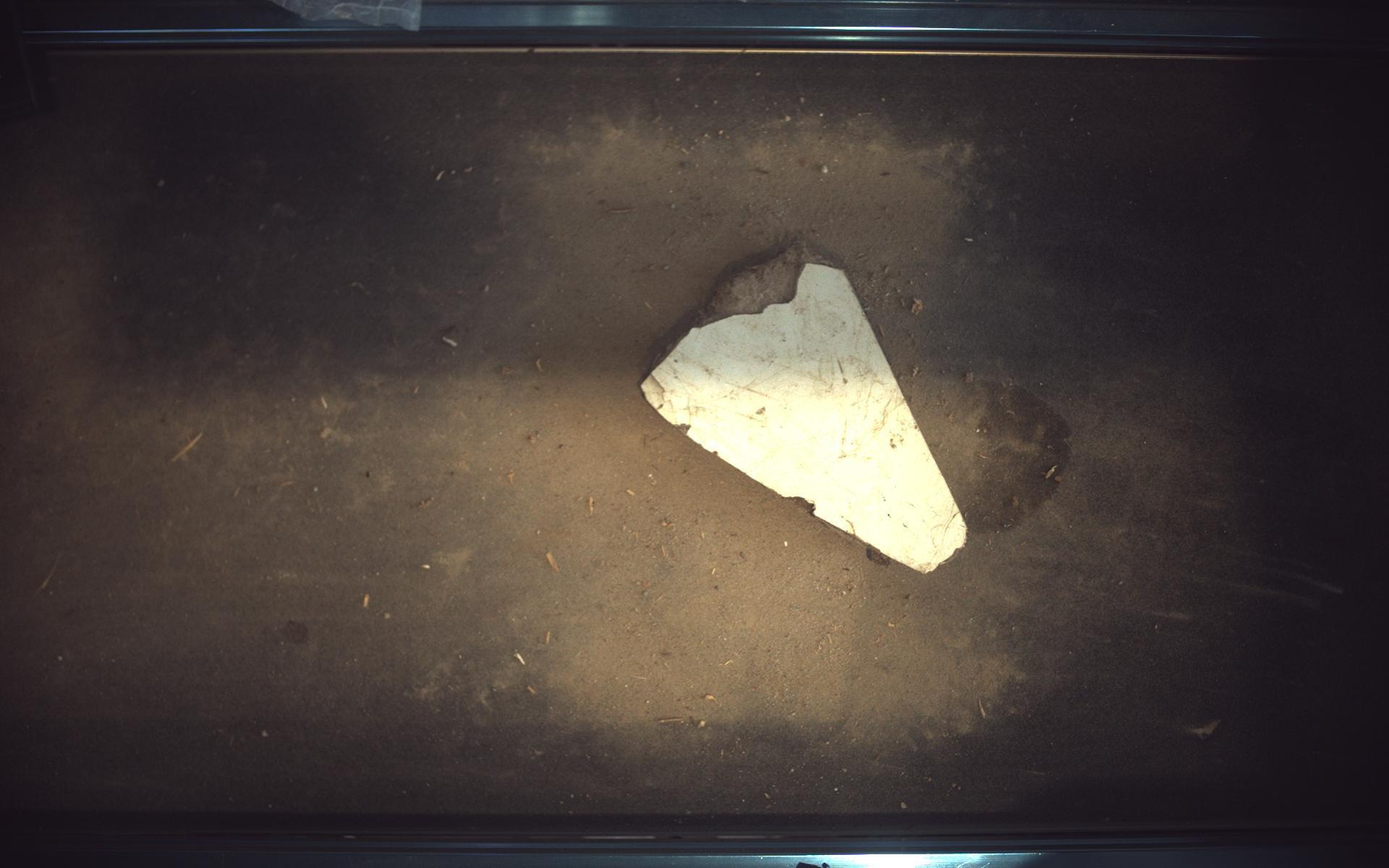wood: (642, 244, 969, 573)
